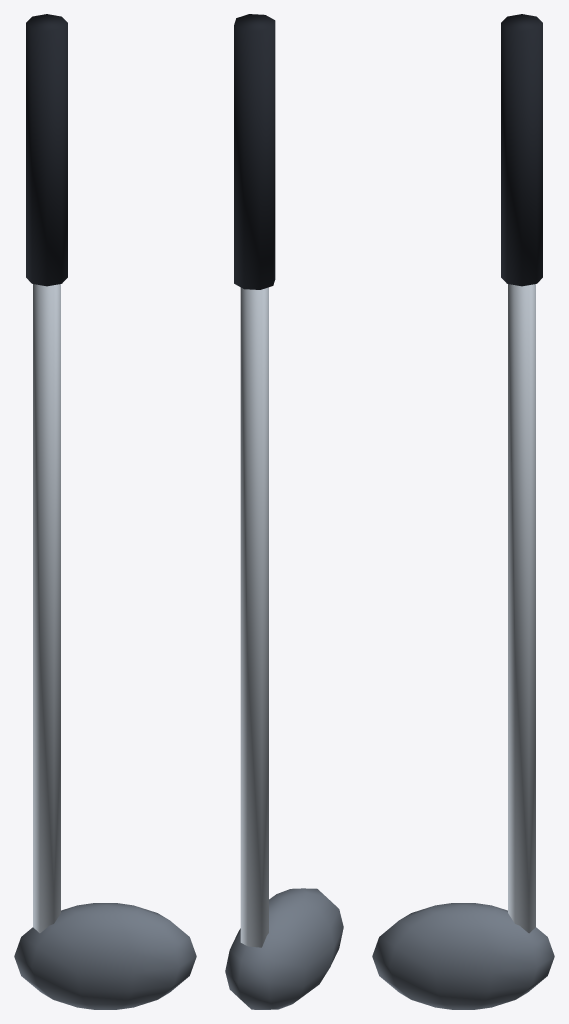
File: golf_club.glb
The picture shows the model from 3 angles, left to right: view 1: azimuth 90°, elevation 25°; view 2: azimuth 150°, elevation 25°; view 3: azimuth 270°, elevation 25°; orthographic projection.
Visible parts, largest first — view 1: golf_club; view 2: golf_club; view 3: golf_club.
Boxes of the visible parts, x1,y1,x2,y2 form: golf_club: (14,14,196,1009); golf_club: (225,14,343,1009); golf_club: (372,14,554,1009).
Bounding box in the file's own units: 0.0685 × 0.928 × 0.156.
